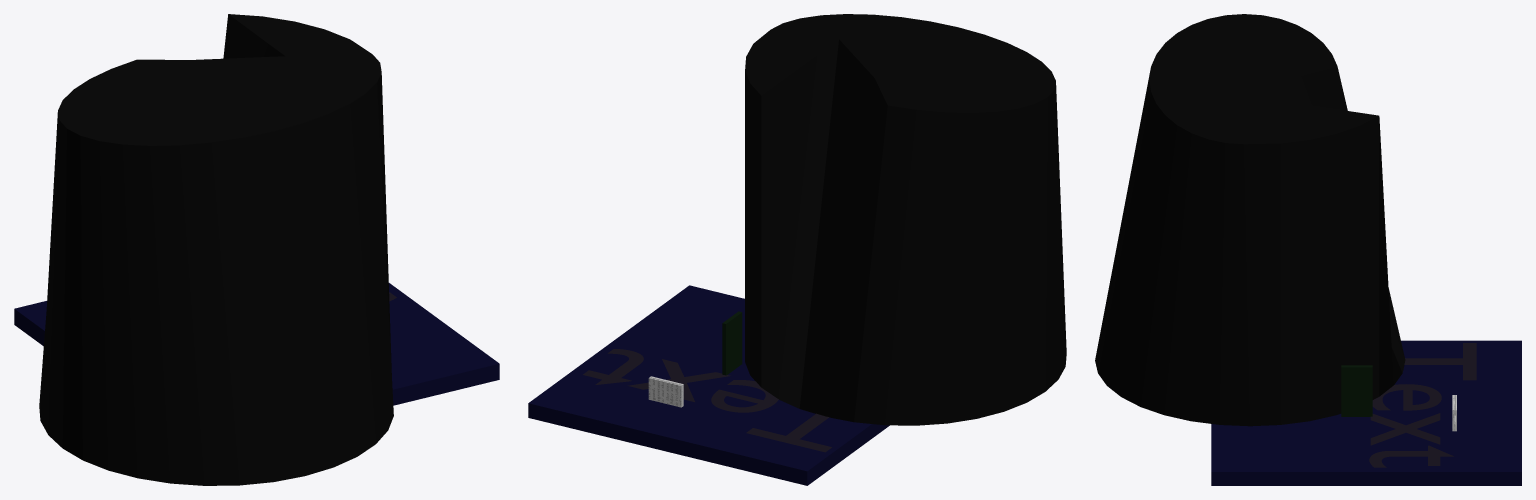
Rendered from main1.obj.
3 renders of one model, left to right at view 1: azimuth 30°, elevation 25°; view 2: azimuth 150°, elevation 25°; view 3: azimuth 270°, elevation 25°, orthographic. The views are drawn at different scales.
Parts seen in each view (by area): view 1: Cylinder, Plane; view 2: Cylinder, Plane, Text, Cube.001, Cube; view 3: Cylinder, Plane, Text, Cube.001.
Part boxes in pixels (<box>): Cylinder: <box>39,14,393,485</box>; Plane: <box>14,283,499,405</box>; Cylinder: <box>745,14,1066,425</box>; Plane: <box>528,285,889,485</box>; Text: <box>583,349,831,452</box>; Cube.001: <box>722,311,742,375</box>; Cube: <box>648,376,683,407</box>; Cylinder: <box>1095,14,1405,426</box>; Plane: <box>1211,340,1521,485</box>; Text: <box>1369,343,1476,467</box>; Cube.001: <box>1341,365,1372,416</box>.
Bounding box in the file's own units: 2.7 × 2.18 × 2.75.
